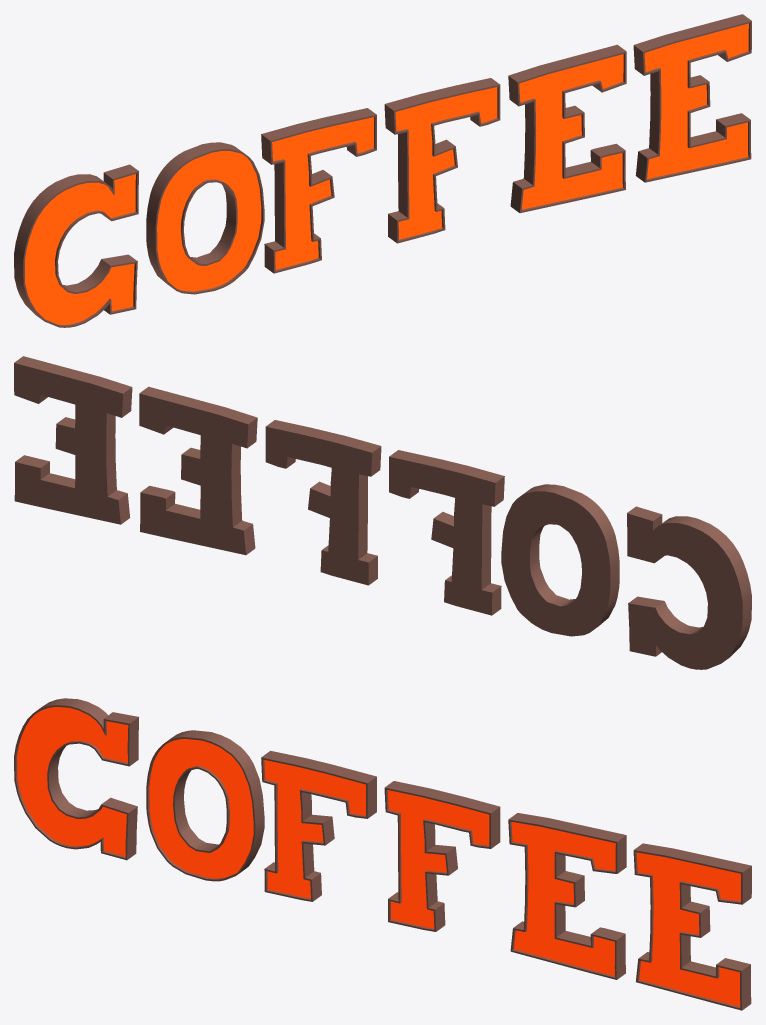
File: CoffeeSign.fbx
3 renders of one model, top to bottom at view 1: azimuth 30°, elevation 25°; view 2: azimuth 150°, elevation 25°; view 3: azimuth 330°, elevation 25°, orthographic.
Parts seen in each view (by area): view 1: typeMesh1; view 2: typeMesh1; view 3: typeMesh1.
Part boxes in pixels (left/top/right/bottom): typeMesh1: left=14, top=14, right=751, bottom=327; typeMesh1: left=14, top=356, right=751, bottom=669; typeMesh1: left=14, top=698, right=751, bottom=1010.
Bounding box in the file's own units: 456 × 85.4 × 10.2.
